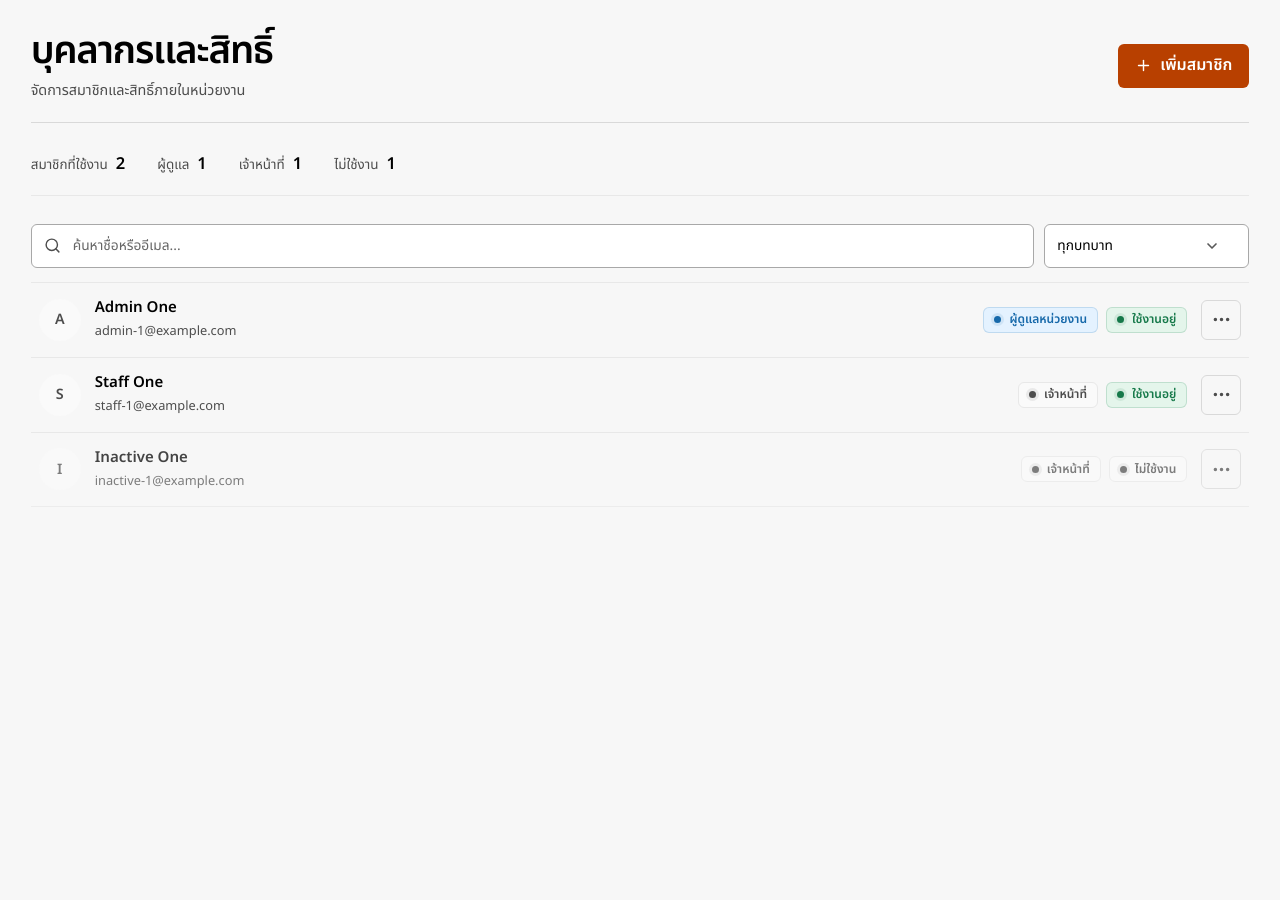
Test: StaffView popup management › protects the last active admin and keeps the member list compact
Expected: the heading "Admin One" is shown, [95,296,177,319]
Expected: the element "Admin One" is shown, [31,283,1249,358]
Click the button named "จัดการสมาชิก Admin One" at (1221, 320), box [1201,300,1241,340]
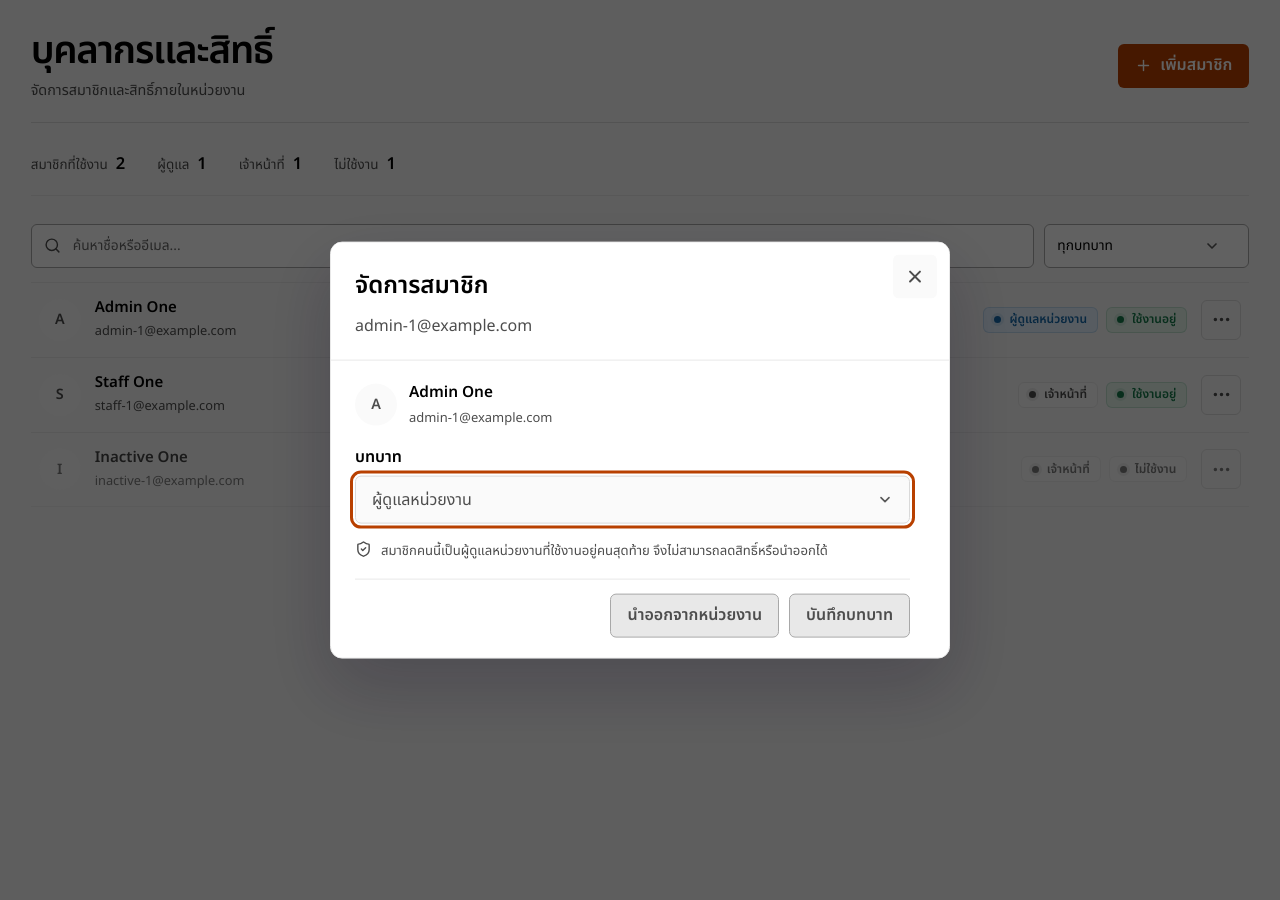
Now the text "ผู้ดูแลหน่วยงานที่ใช้งานอยู่คนสุดท้าย" is shown, box [381,541,828,561]
Now the button "นำออกจากหน่วยงาน" is disabled, box [610,593,779,637]
Select "เจ้าหน้าที่" in the dropdown labelled "บทบาท" at (632, 500), box [355,476,910,524]
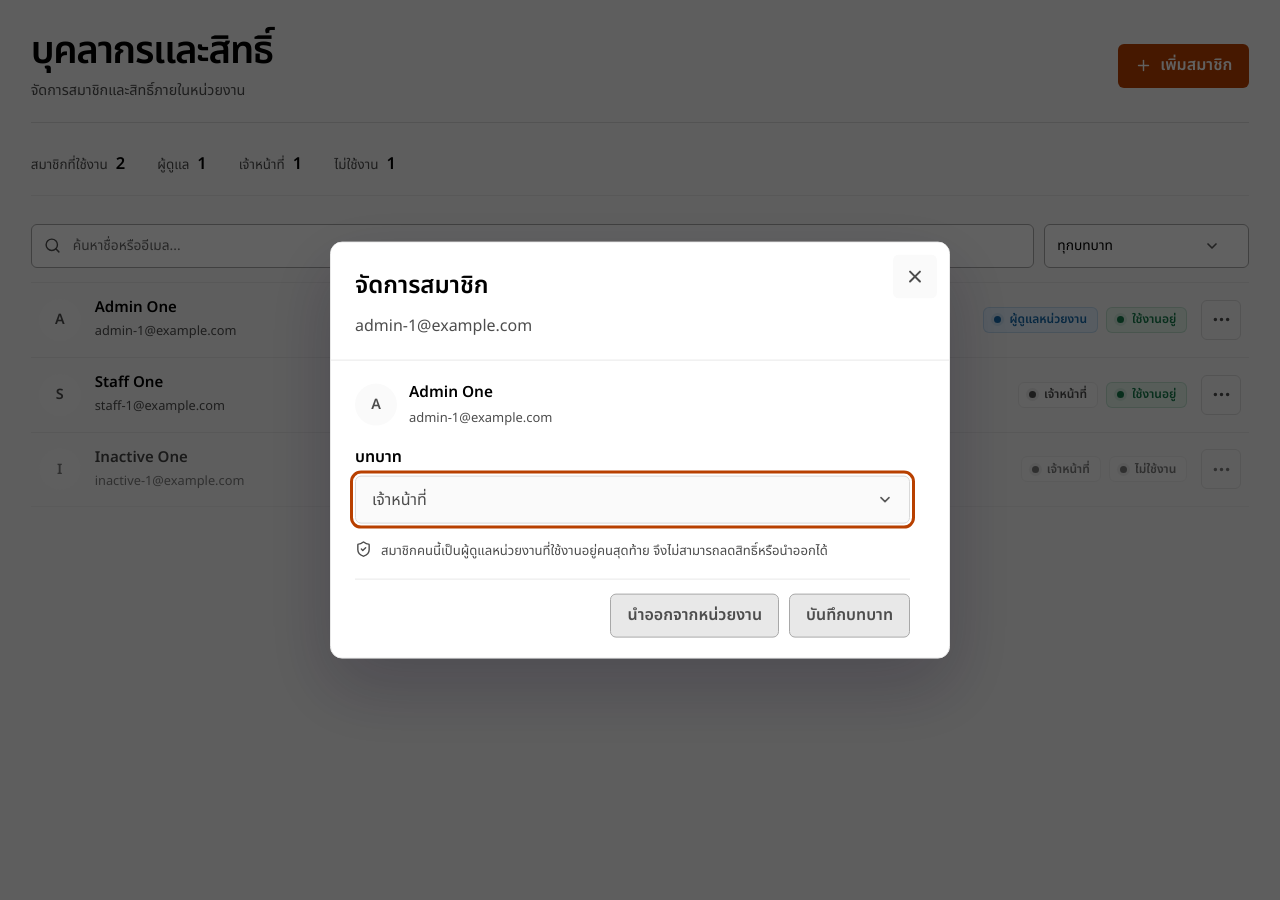
Now the button "บันทึกบทบาท" is disabled, box [789,593,910,637]
Click the button named "ปิด" at (915, 277), box [893,255,937,299]
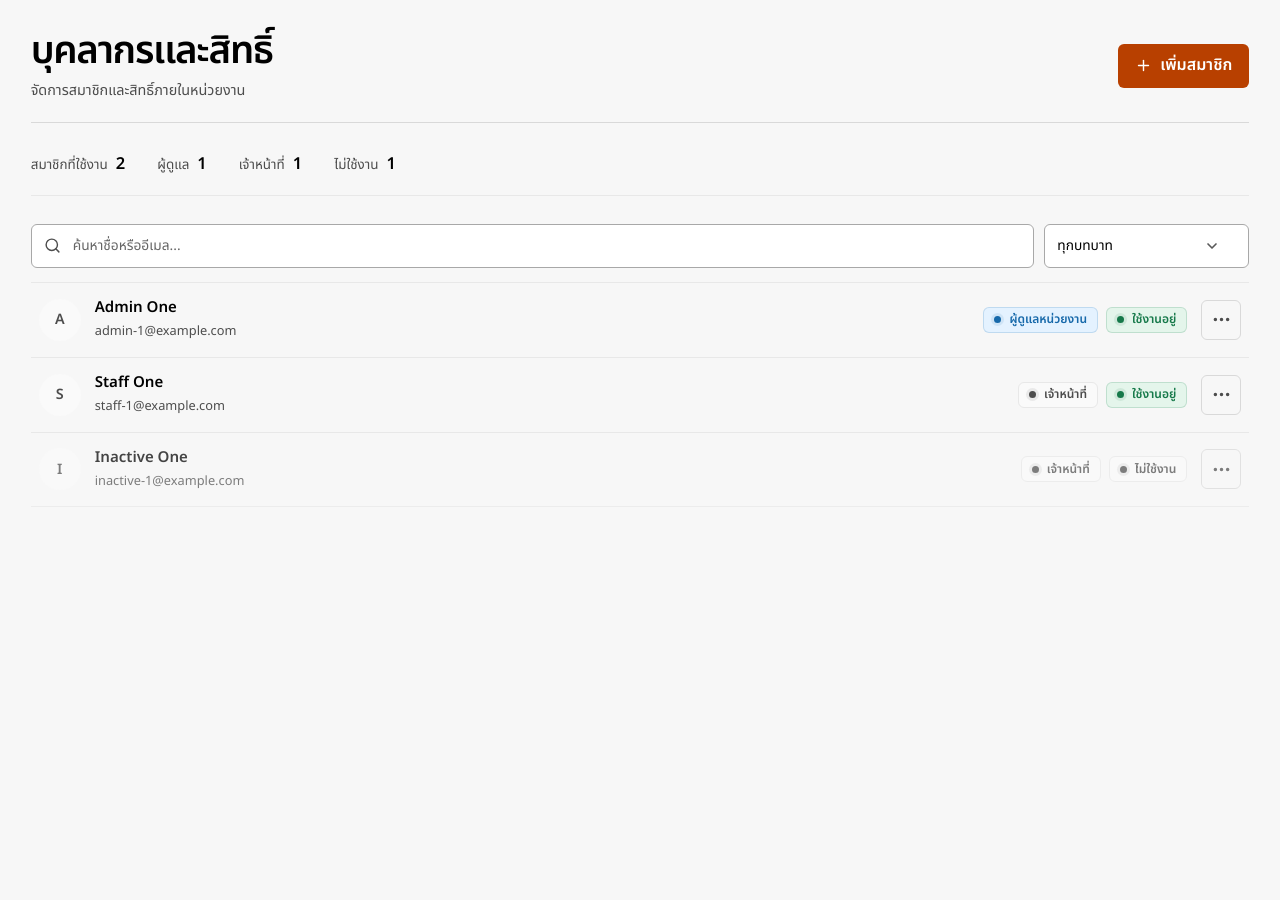
Click the button named "จัดการสมาชิก Inactive One" at (1221, 469), box [1201,449,1241,489]
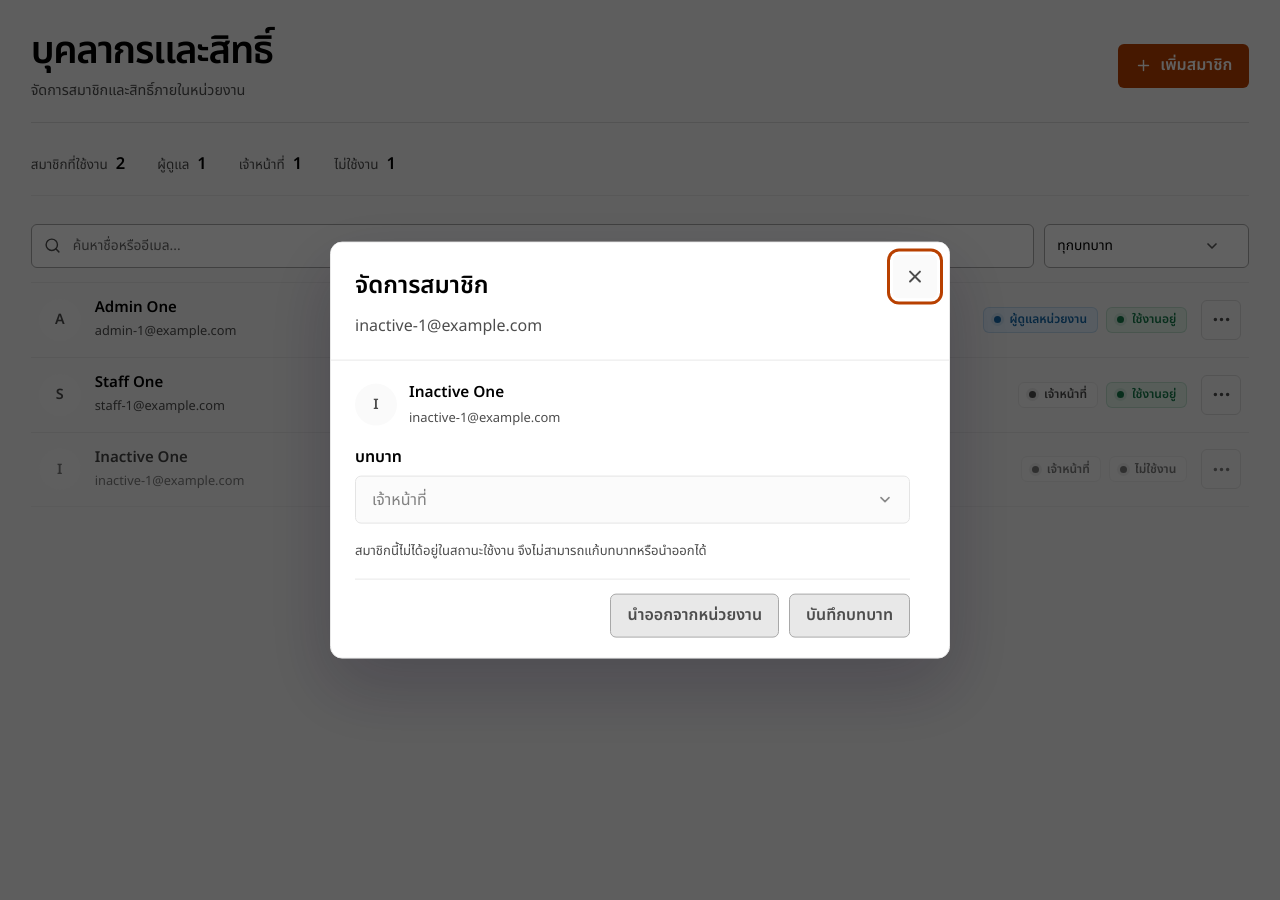
Now the button "นำออกจากหน่วยงาน" is disabled, box [610,593,779,637]
